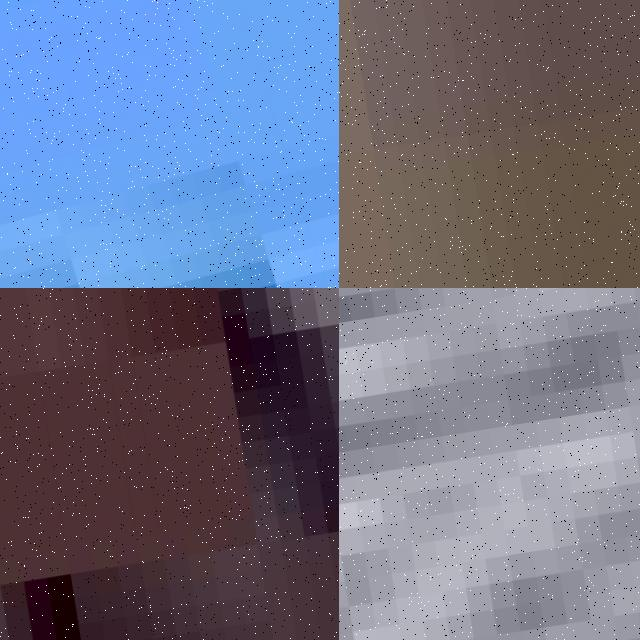drone: (0, 0, 339, 288)
